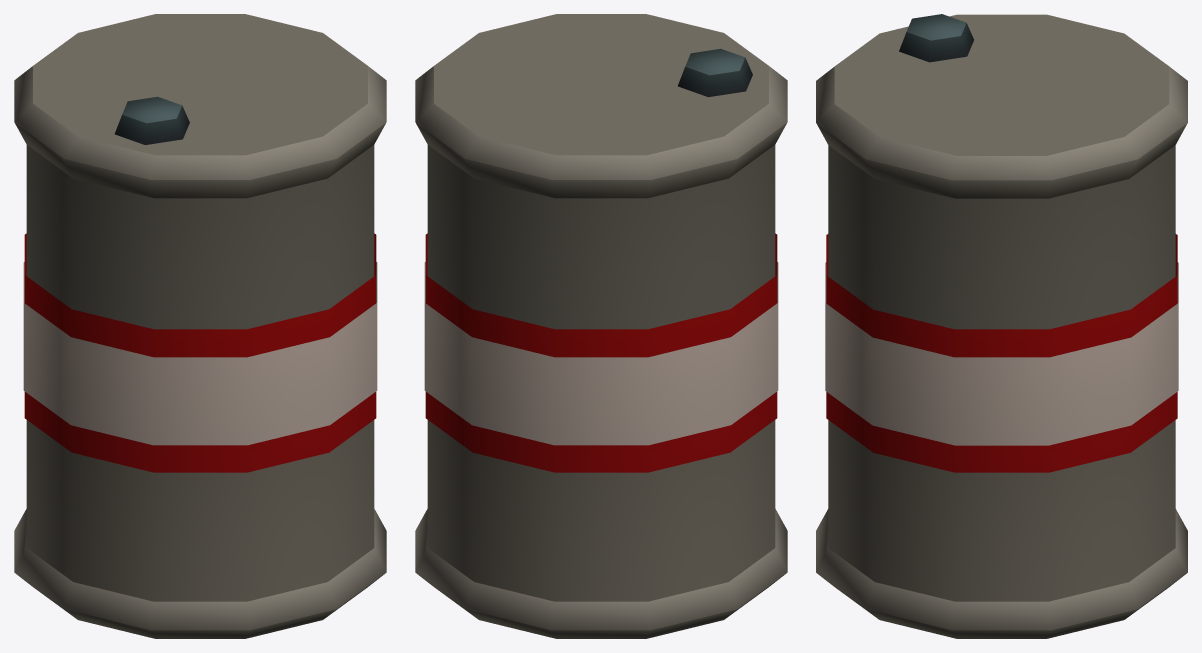
The model's file is Barrel_1D.fbx.
3 renders of one model, left to right at view 1: azimuth 30°, elevation 25°; view 2: azimuth 150°, elevation 25°; view 3: azimuth 270°, elevation 25°, orthographic.
Visible parts, largest first — view 1: Barrel_1D; view 2: Barrel_1D; view 3: Barrel_1D.
Part boxes in pixels (x1=…): Barrel_1D: x1=14, y1=14, x2=386, y2=638; Barrel_1D: x1=415, y1=14, x2=787, y2=638; Barrel_1D: x1=816, y1=14, x2=1187, y2=638.
Size of the model in its own units: 83.69 by 125 by 83.69.
